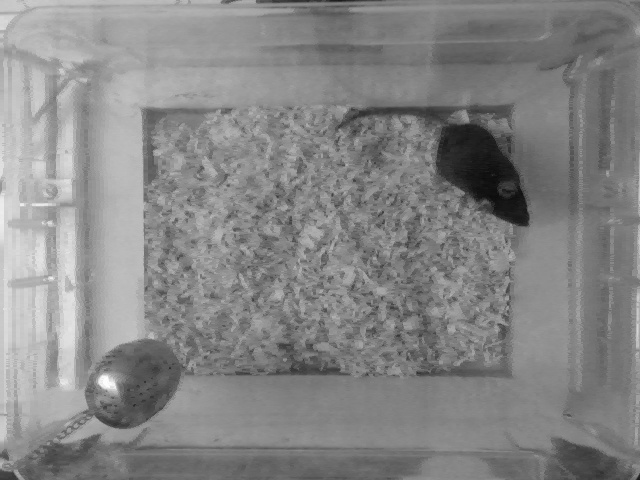mice: (340, 102, 532, 227)
